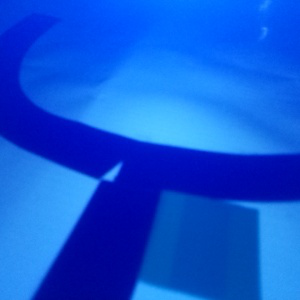bottom_right: (100, 156, 260, 300)
